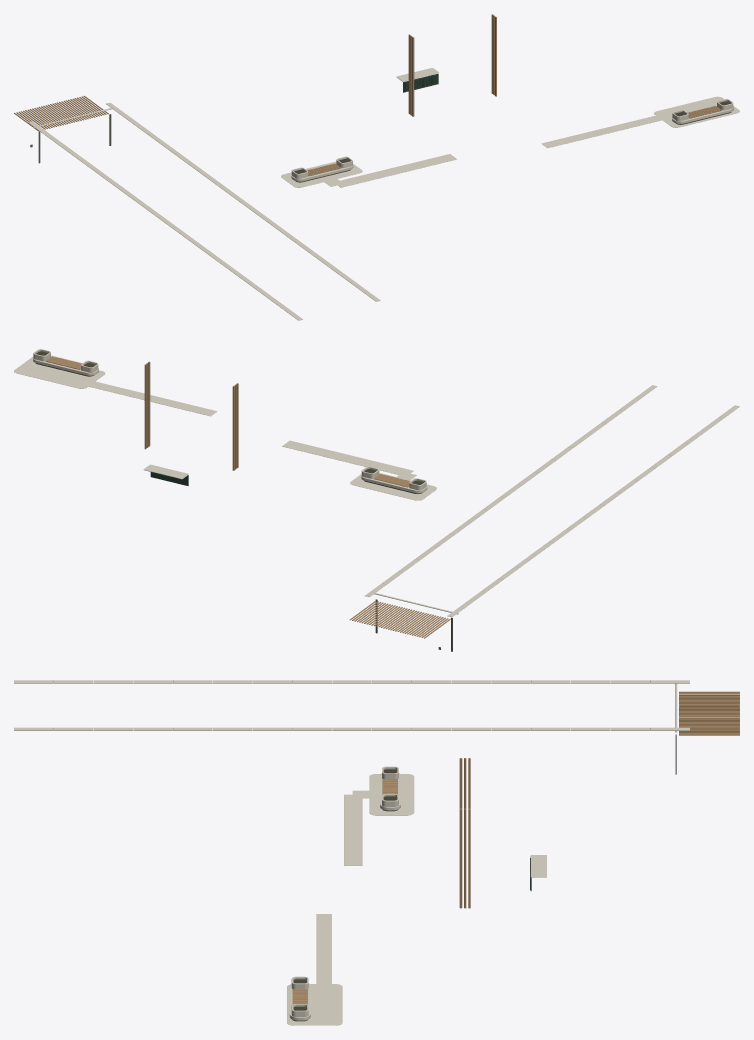
The model's file is m-arrival-details-v28.glb.
3 renders of one model, top to bottom at view 1: azimuth 30°, elevation 25°; view 2: azimuth 150°, elevation 25°; view 3: azimuth 270°, elevation 25°, orthographic. The views are drawn at different scales.
Visible parts, largest first — view 1: EME28 Stone details, EME28 Oak details; view 2: EME28 Stone details, EME28 Oak details; view 3: EME28 Stone details, EME28 Oak details.
Part boxes in pixels (<box>): EME28 Stone details: <box>28,68,739,320</box>; EME28 Oak details: <box>14,14,721,176</box>; EME28 Stone details: <box>14,349,739,617</box>; EME28 Oak details: <box>45,356,450,638</box>; EME28 Stone details: <box>14,680,689,1025</box>; EME28 Oak details: <box>292,691,739,1004</box>.
Size of the model in its own units: 60.22 by 12.35 by 54.75.
